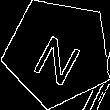N_NE: (29, 21, 88, 84)
